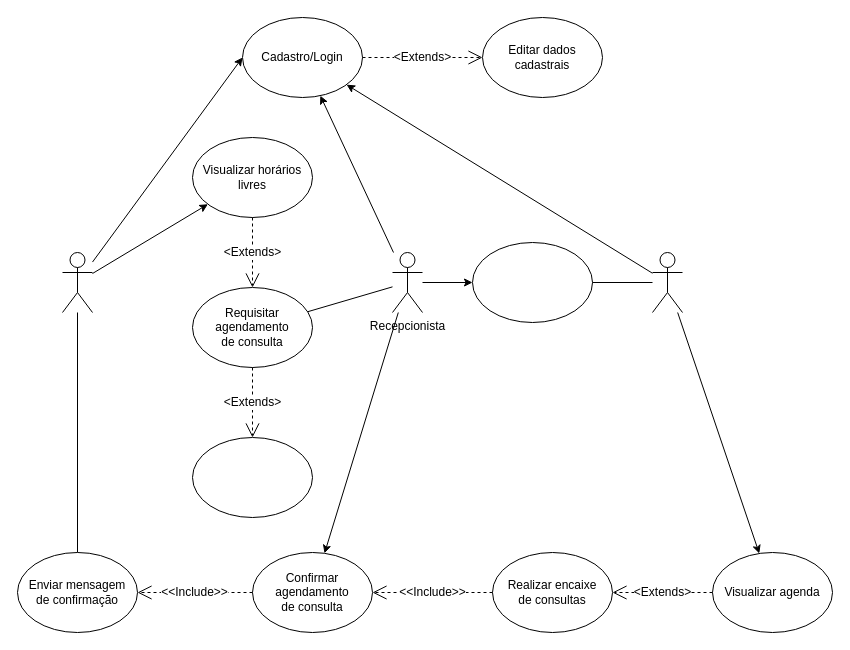
Image size: 850x650. Some labels were removed from this diagram. Each missing label, with the centre of its shape:
Cancelar agendamento de consulta: the point at 252,477
Medico: the point at 667,282
Paciente: the point at 77,282
Requisitar encaixe: the point at 532,282
